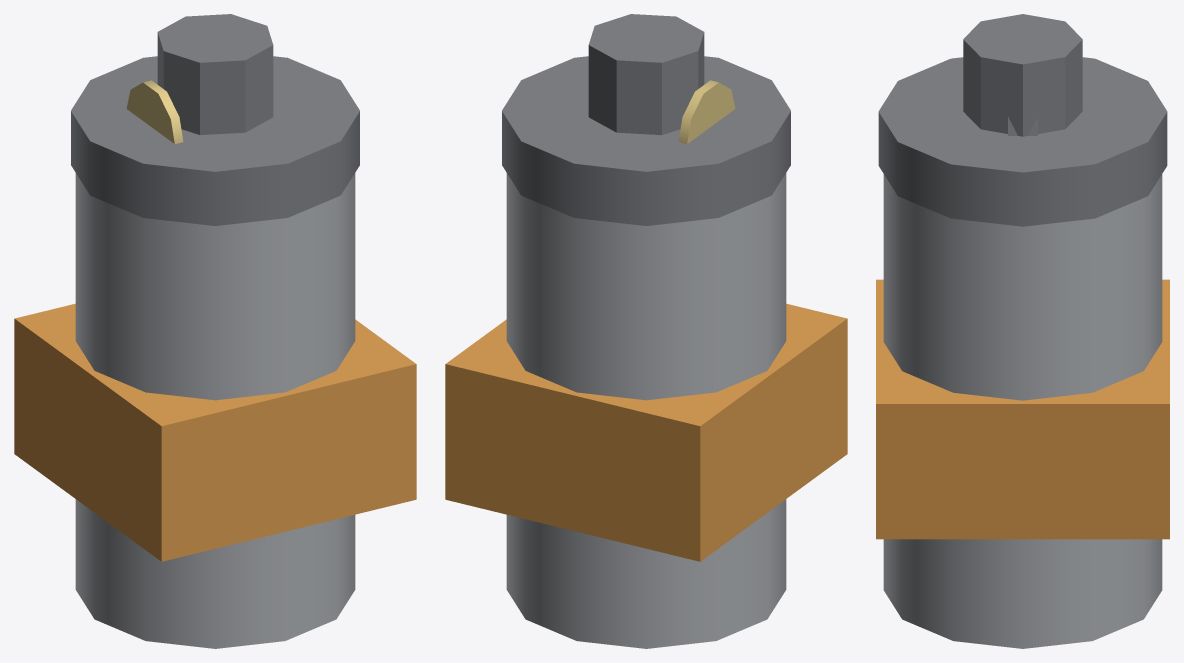
Rendered from flash.glb.
3 views of the same model, side by side, from view 1: azimuth 30°, elevation 25°; view 2: azimuth 150°, elevation 25°; view 3: azimuth 270°, elevation 25° (orthographic).
Parts seen in each view (by area): view 1: nade_flash; view 2: nade_flash; view 3: nade_flash.
Part boxes in pixels (x1,y1,x2,y2): nade_flash: [14, 14, 416, 648]; nade_flash: [445, 14, 847, 648]; nade_flash: [876, 14, 1169, 648].
Size of what is drawn, in the model's own units: 0.059 by 0.122 by 0.059.
